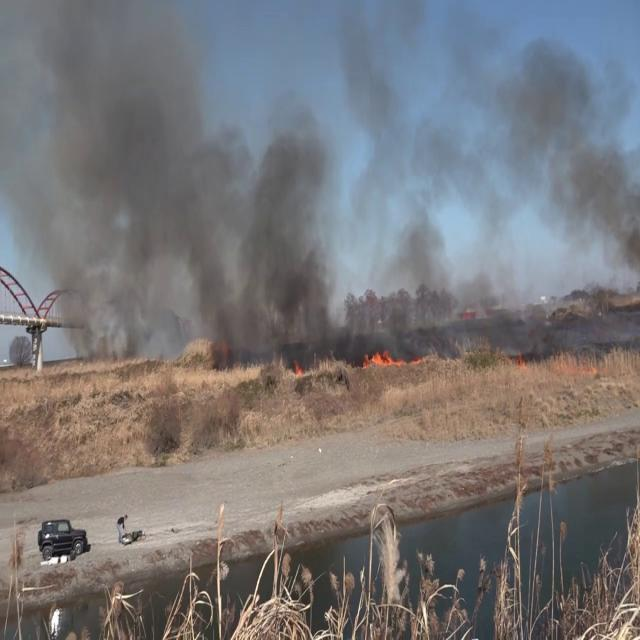Smoke: (0, 0, 352, 356), (338, 14, 640, 334)
